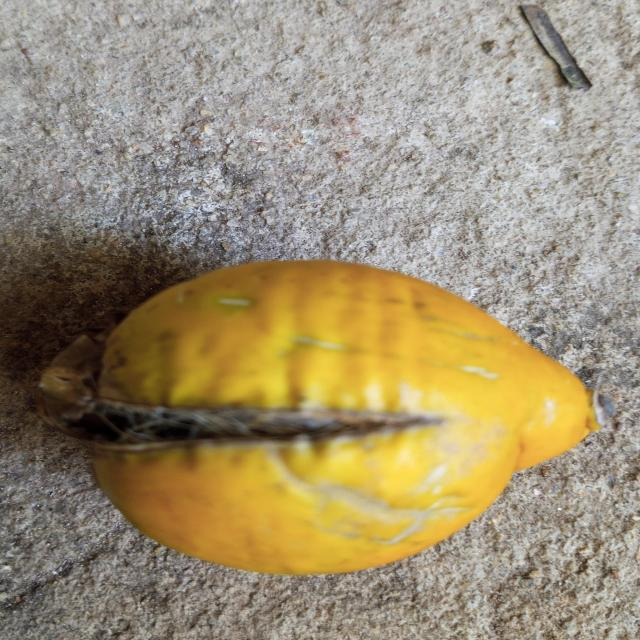damaged: (38, 261, 605, 574)
